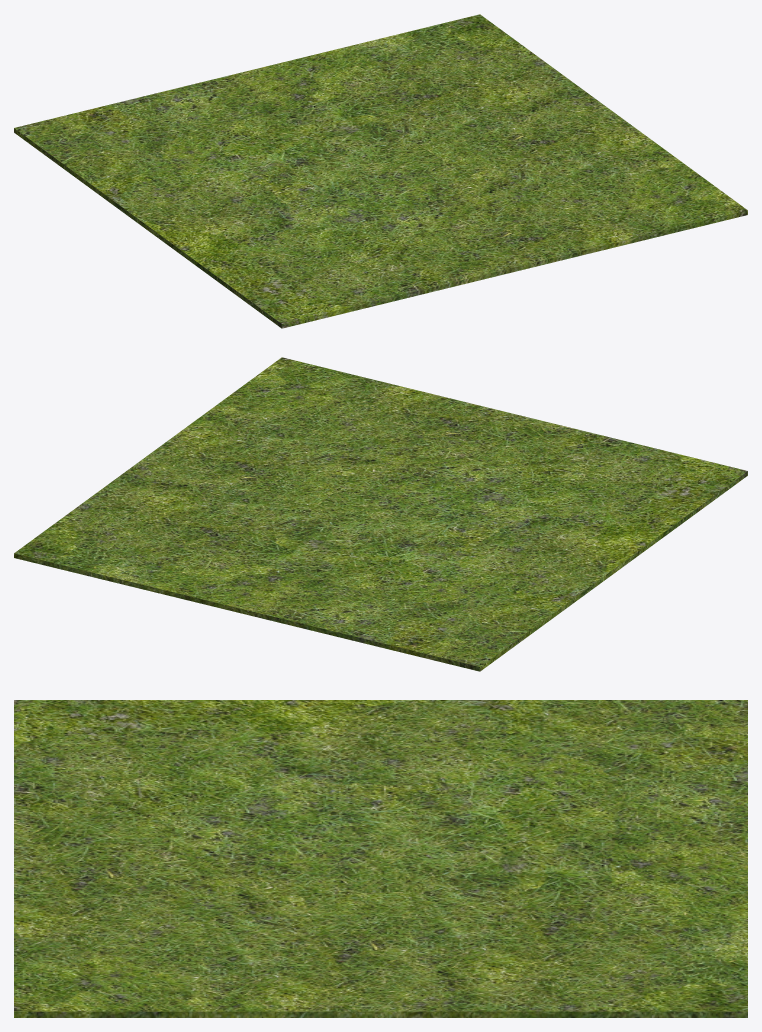
Rendered from piso.obj.
3 renders of one model, top to bottom at view 1: azimuth 30°, elevation 25°; view 2: azimuth 150°, elevation 25°; view 3: azimuth 270°, elevation 25°, orthographic. The views are drawn at different scales.
Visible parts, largest first — view 1: pCube1; view 2: pCube1; view 3: pCube1.
Boxes of the visible parts, bbox=[...] form: pCube1: bbox=[14, 14, 747, 328]; pCube1: bbox=[14, 357, 747, 671]; pCube1: bbox=[14, 700, 747, 1017].
Bounding box in the file's own units: 28.12 × 0.2652 × 27.99.
Materials: 1 (1 with a texture image).
